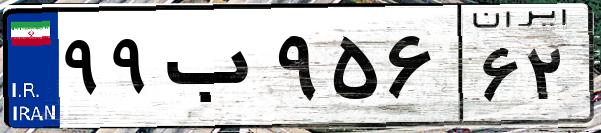2: (525, 38, 570, 115)
5: (330, 28, 385, 110)
6: (385, 28, 445, 110), (475, 38, 525, 113)
9: (270, 28, 330, 110), (57, 26, 110, 100), (110, 28, 158, 98)
ب: (158, 20, 270, 120)
